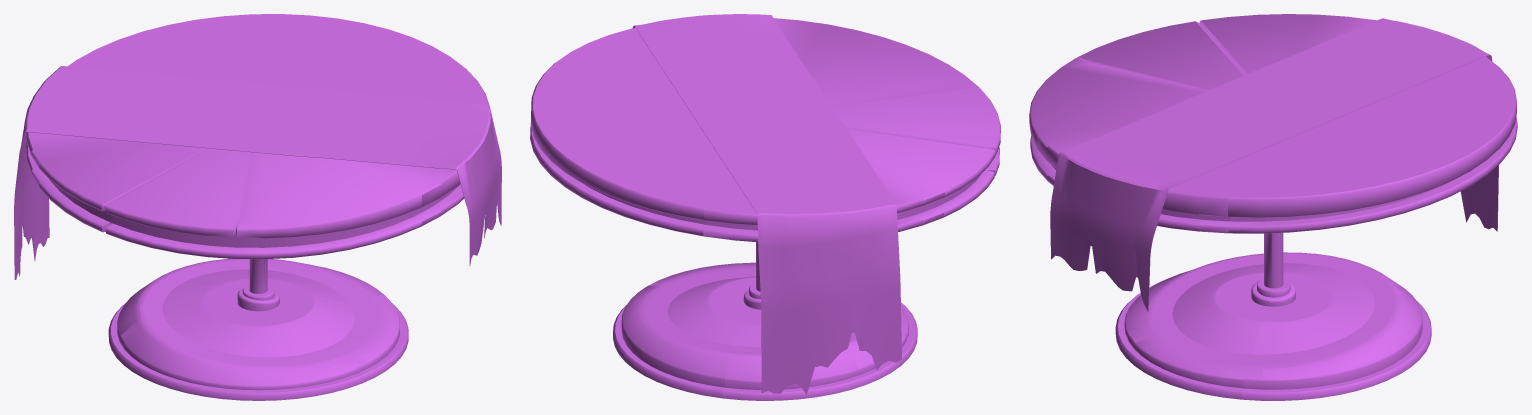
The picture shows the model from 3 angles, left to right: view 1: azimuth 30°, elevation 25°; view 2: azimuth 150°, elevation 25°; view 3: azimuth 270°, elevation 25°; orthographic projection. The views are drawn at different scales.
Parts seen in each view (by area): view 1: split_parent_0; view 2: split_parent_0; view 3: split_parent_0.
Part boxes in pixels (x1,y1,x2,y2): split_parent_0: (14, 14, 501, 400); split_parent_0: (530, 14, 1000, 400); split_parent_0: (1029, 14, 1517, 400).
Bounding box in the file's own units: 1 × 0.5425 × 0.9985.
